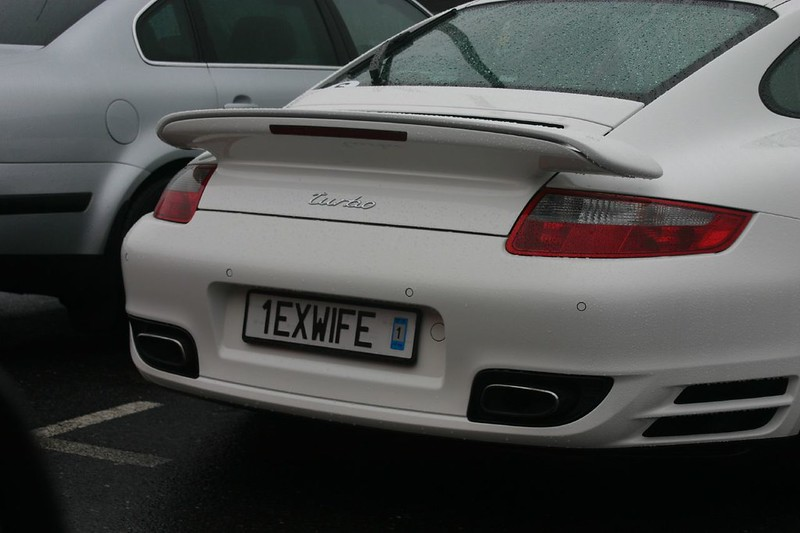number_plate: (220, 282, 444, 373)
